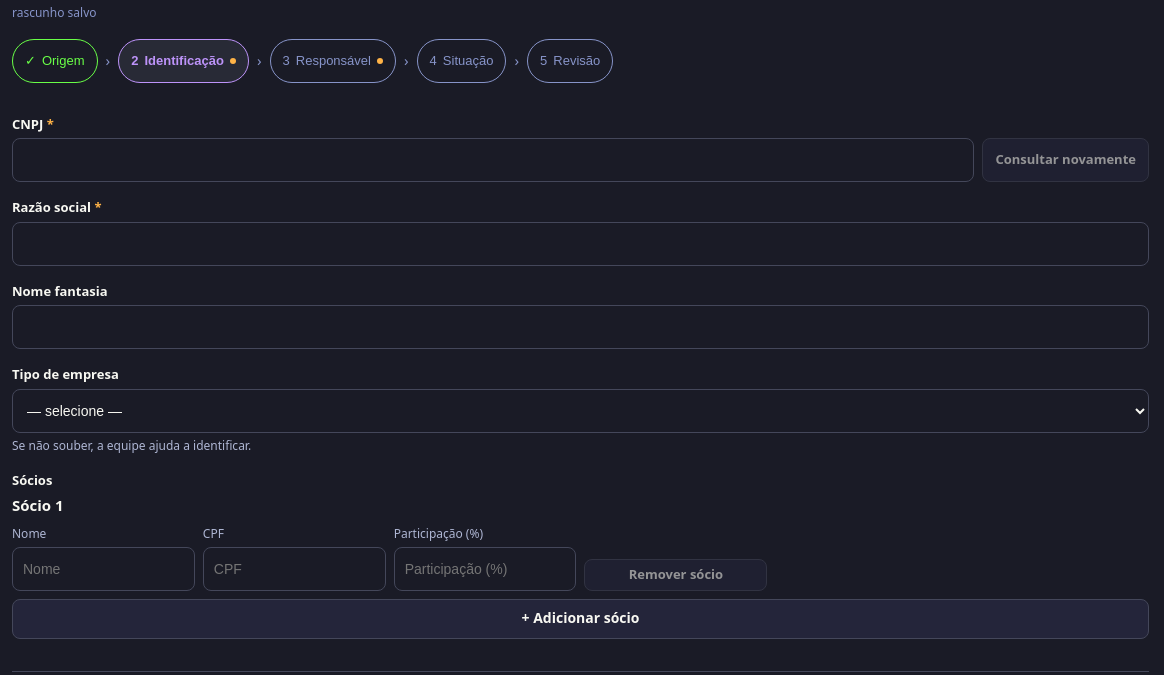
Scenario: wizard interno preenche automaticamente e falha permite edição e repetição
Type "11222333000181" into the field labelled "CNPJ *" at {"x": 493, "y": 160}, box [12,138,974,182]
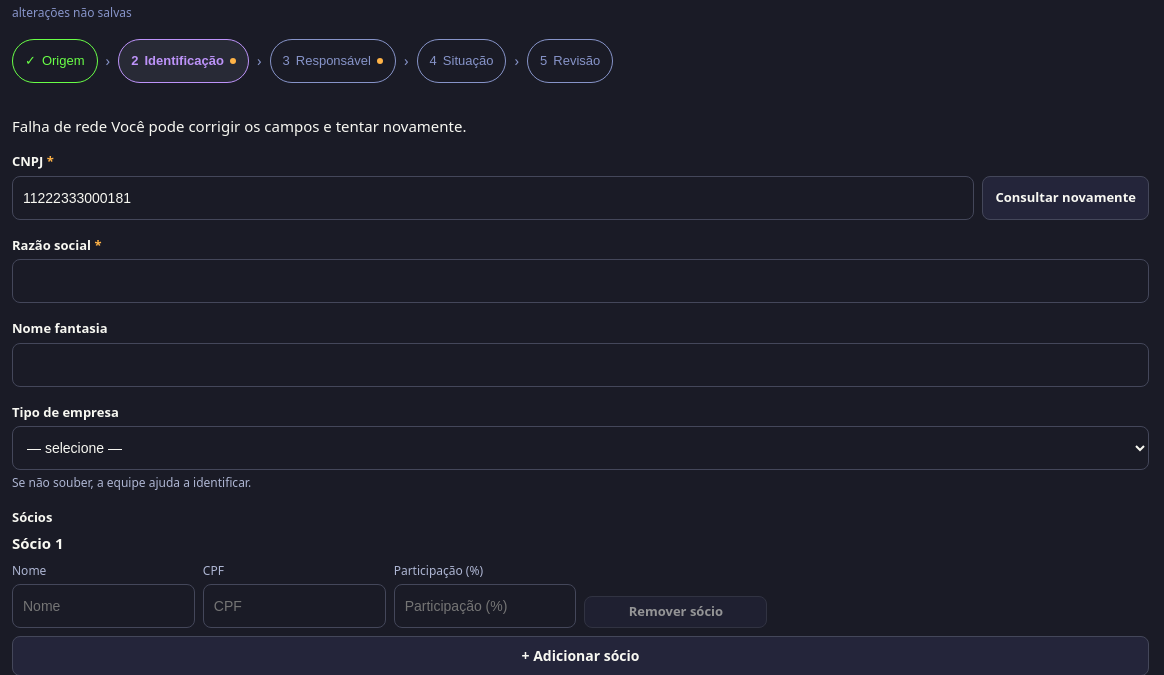
Now the text "Falha de rede Você pode corrigir os campos e tentar novamente." is shown, box [12,116,466,136]
Type "Nome manual" into the field labelled "Razão social *" at {"x": 580, "y": 281}, box [12,259,1149,303]
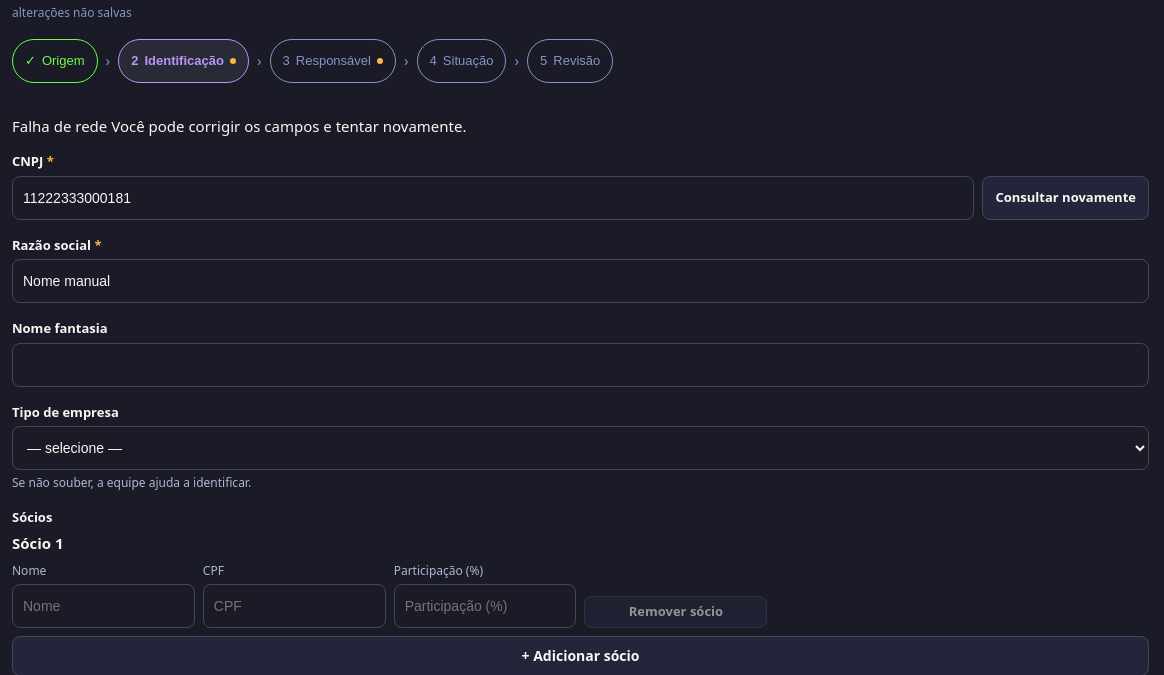
Click the button "Consultar novamente" at {"x": 1066, "y": 198}, box [982,176,1149,220]
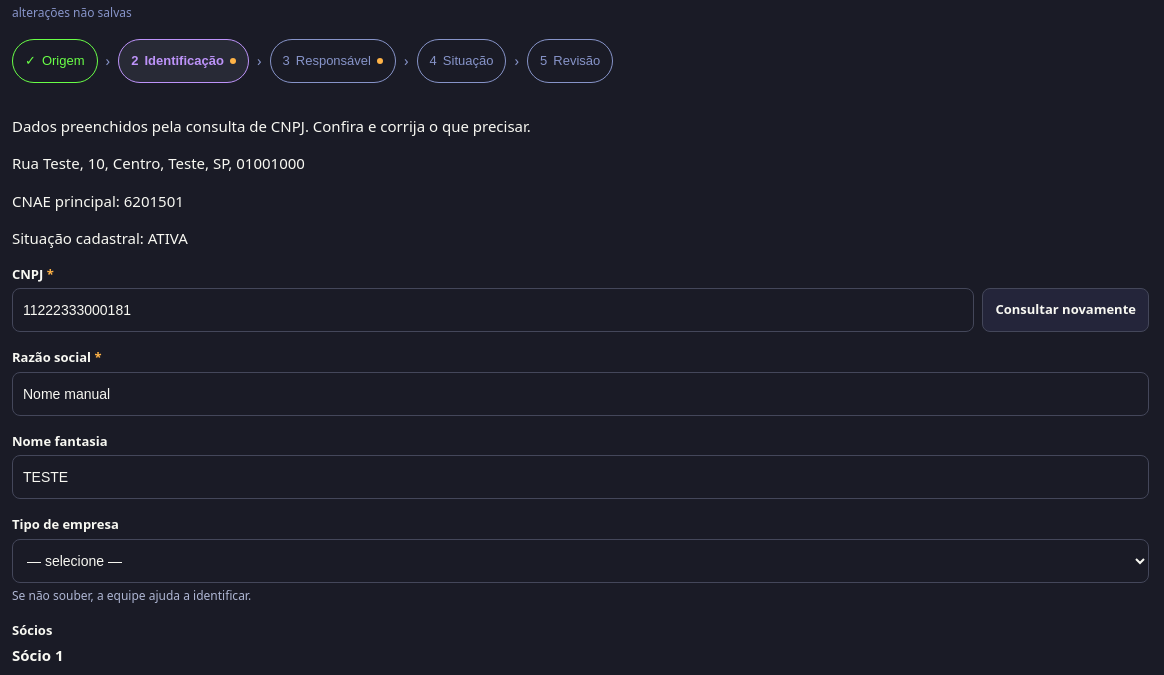
Now the text "Dados preenchidos pela consulta" is shown, box [12,116,531,136]
